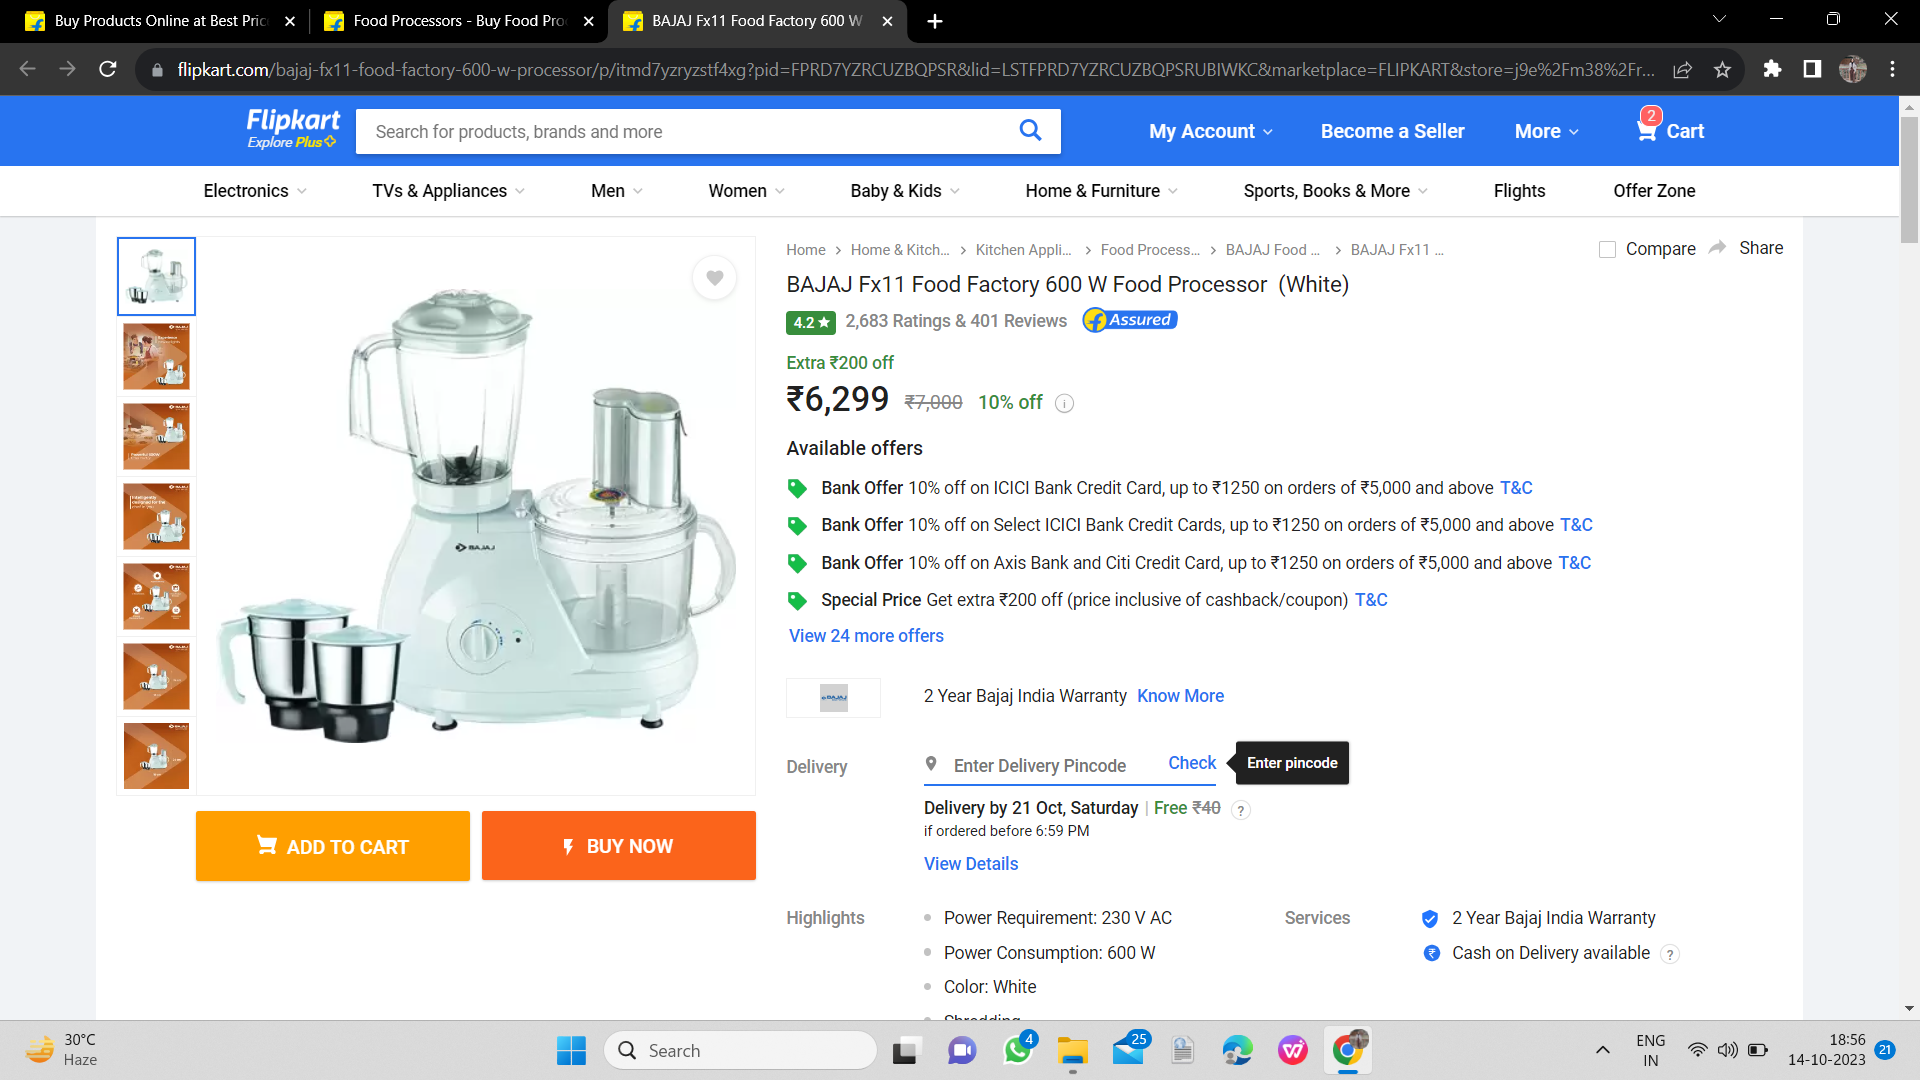Image: (207, 245, 750, 767)
Paragraph: (783, 471, 1615, 644), (777, 733, 1387, 878), (187, 787, 756, 893), (774, 899, 1197, 997), (1135, 102, 1717, 164), (1273, 902, 1659, 973), (783, 343, 1076, 421), (773, 269, 1357, 306), (798, 678, 1238, 716), (767, 302, 1188, 340), (779, 431, 919, 462)
